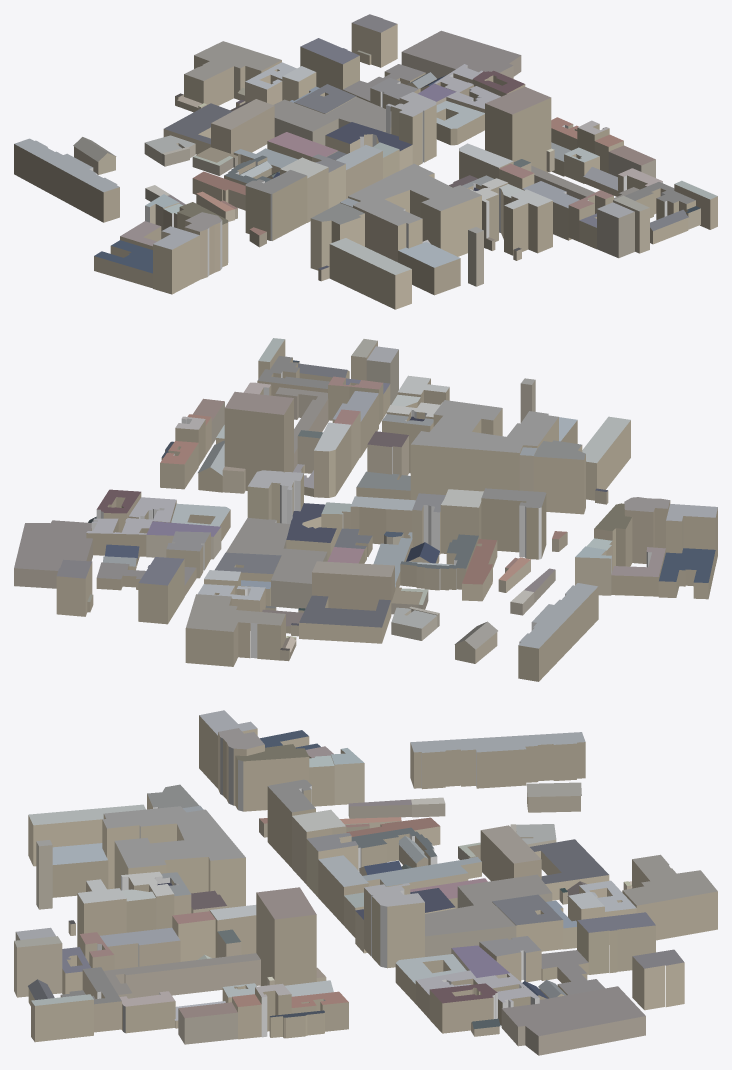
3 views of the same model, one above another, from view 1: azimuth 30°, elevation 25°; view 2: azimuth 150°, elevation 25°; view 3: azimuth 270°, elevation 25° (orthographic). The views are drawn at different scales.
Visible parts, largest first — view 1: tuile; view 2: tuile; view 3: tuile.
Boxes of the visible parts, x1,y1,x2,y2 form: tuile: (14,14,717,309); tuile: (14,338,717,681); tuile: (14,710,717,1055).
Bounding box in the file's own units: 277 × 39.09 × 270.
